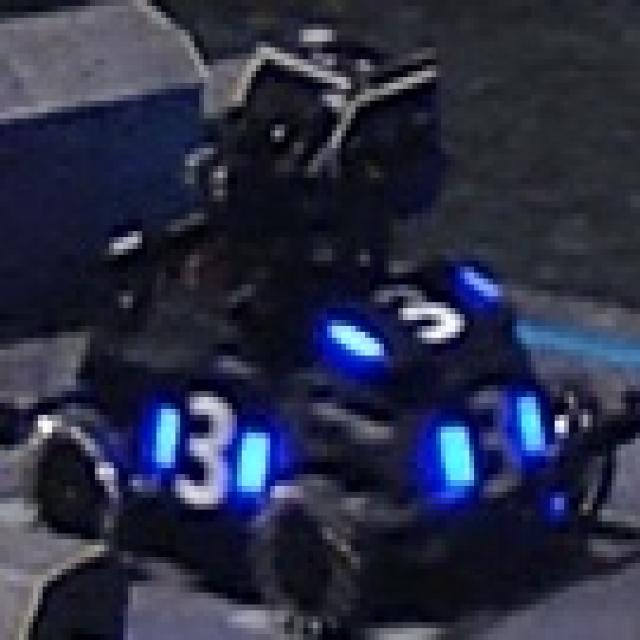B3: (142, 368, 275, 528), (322, 249, 502, 361), (427, 376, 550, 495)
